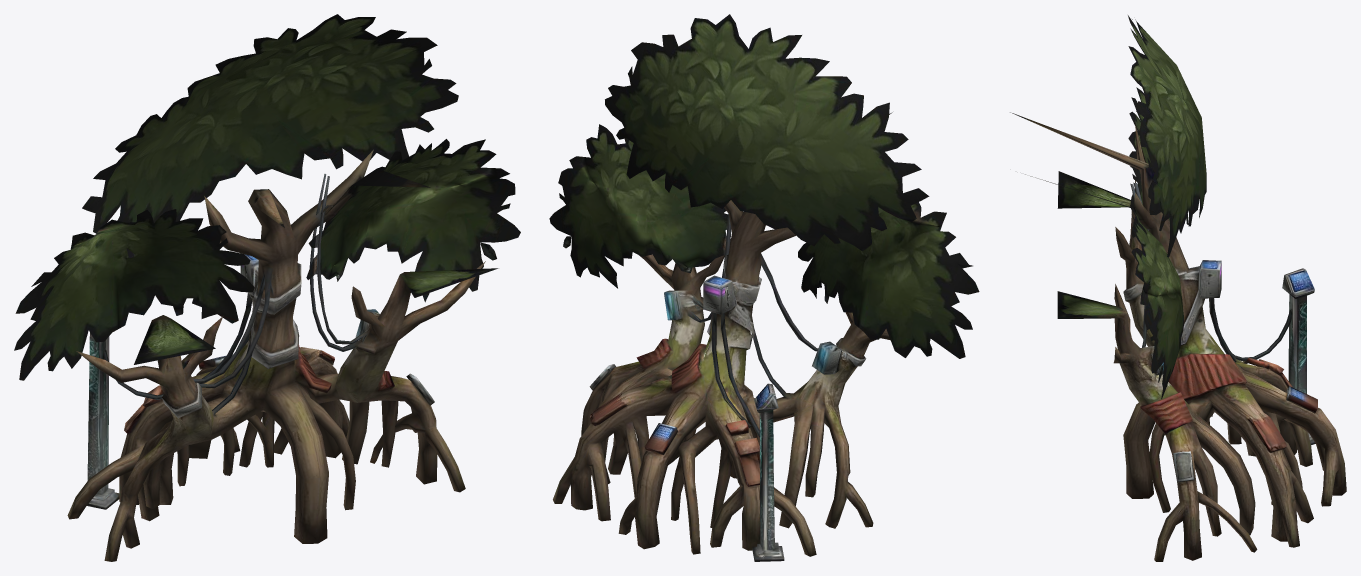
The model's file is mangrove.glb.
The picture shows the model from 3 angles, left to right: view 1: azimuth 30°, elevation 25°; view 2: azimuth 150°, elevation 25°; view 3: azimuth 270°, elevation 25°; orthographic projection. The views are drawn at different scales.
Parts seen in each view (by area): view 1: Body; view 2: Body; view 3: Body.
Boxes of the visible parts, x1,y1,x2,y2 form: Body: (14,14,520,561); Body: (549,14,979,561); Body: (1010,15,1346,561).
Size of the model in its own units: 5.98 by 6 by 4.
1 material, 1 textured.
